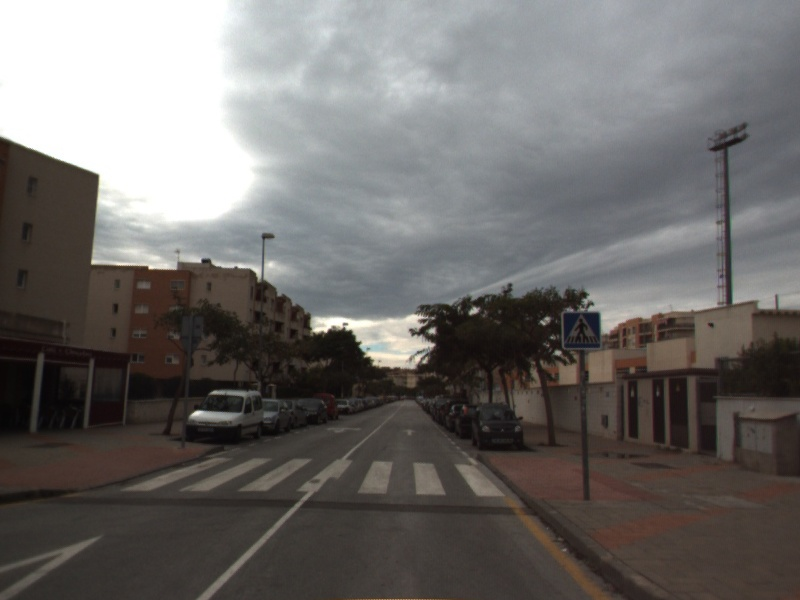STRAIGHT: (401, 426, 419, 437)
